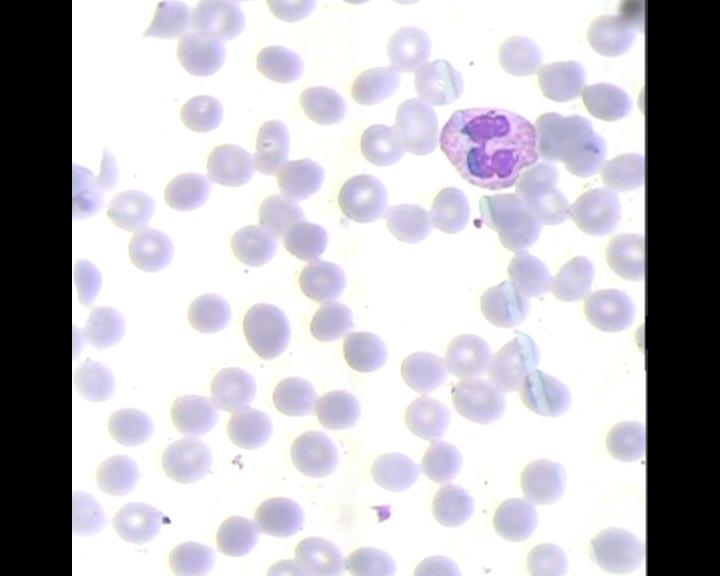neut: (438, 94, 547, 194)
